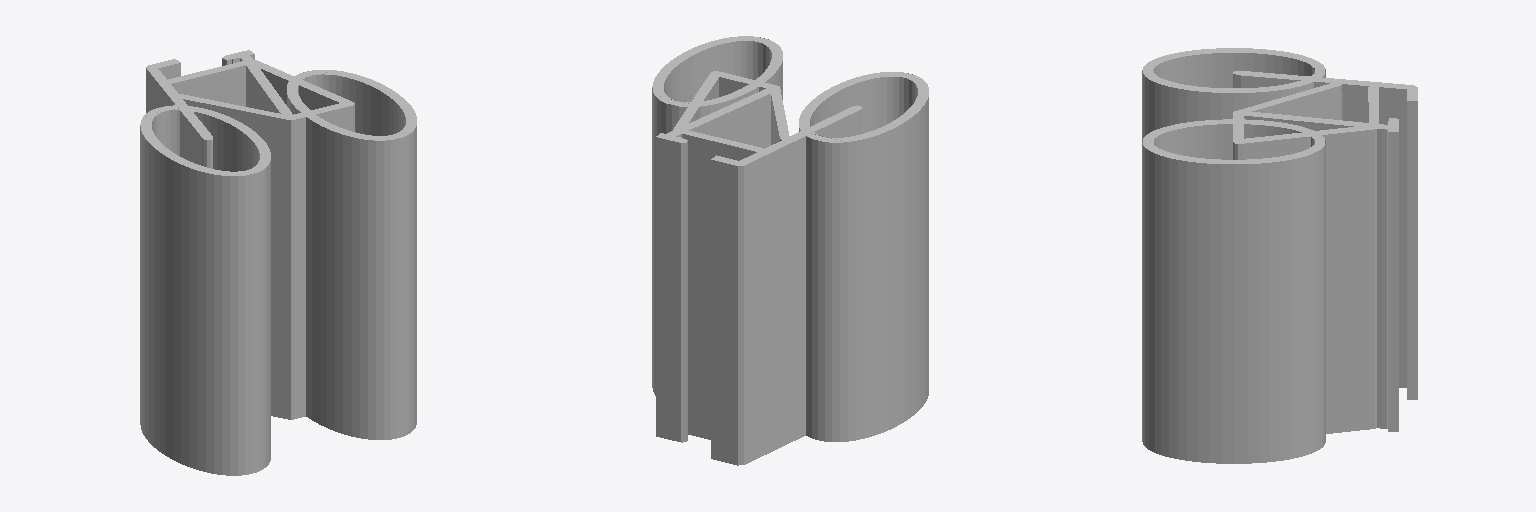
Rendered from 3dtest_cleanup2_0.obj.
The picture shows the model from 3 angles: view 1: azimuth 30°, elevation 25°; view 2: azimuth 150°, elevation 25°; view 3: azimuth 270°, elevation 25°; orthographic projection.
Parts seen in each view (by area): view 1: CityEngineMaterial; view 2: CityEngineMaterial; view 3: CityEngineMaterial.
Boxes of the visible parts, <box> form: CityEngineMaterial: <box>140,50,416,475</box>; CityEngineMaterial: <box>652,36,928,465</box>; CityEngineMaterial: <box>1142,48,1417,463</box>.
Size of the model in its own units: 0.0834 by 0.1 by 0.0834.